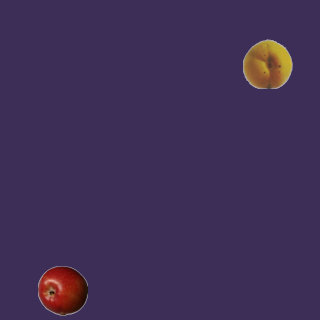Apple Braeburn: (37, 265, 87, 315)
Peach 2: (242, 38, 292, 88)
